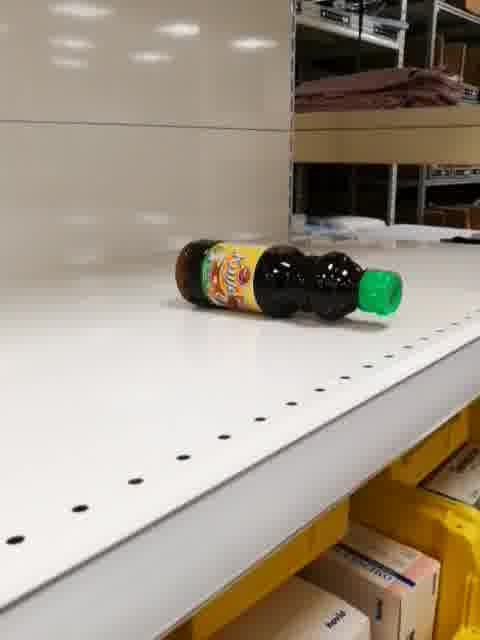cookingoil: (172, 233, 405, 324)
